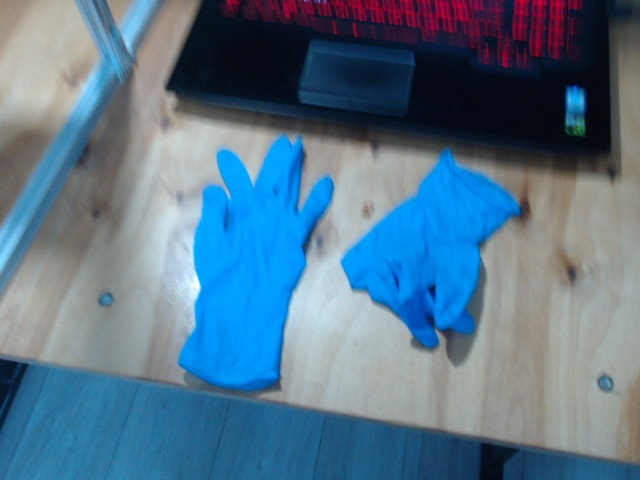medical_glove: (176, 136, 332, 388), (340, 149, 521, 349)
